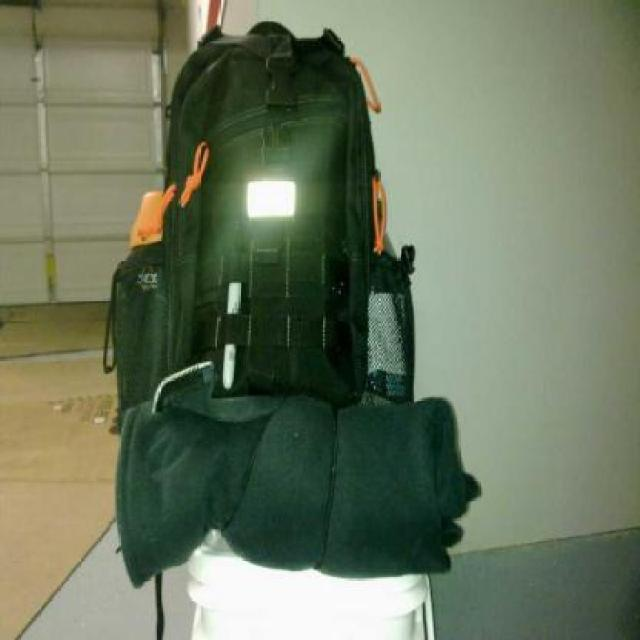backpack: (100, 15, 418, 414)
